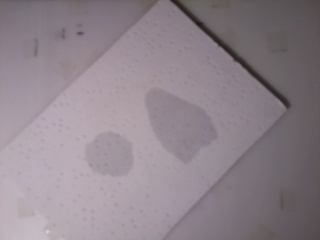Water_detected: (155, 102, 215, 157), (101, 145, 131, 168)
